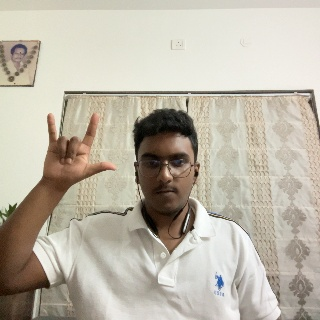Face: (135, 112, 198, 214)
I Love You: (44, 108, 114, 210)
